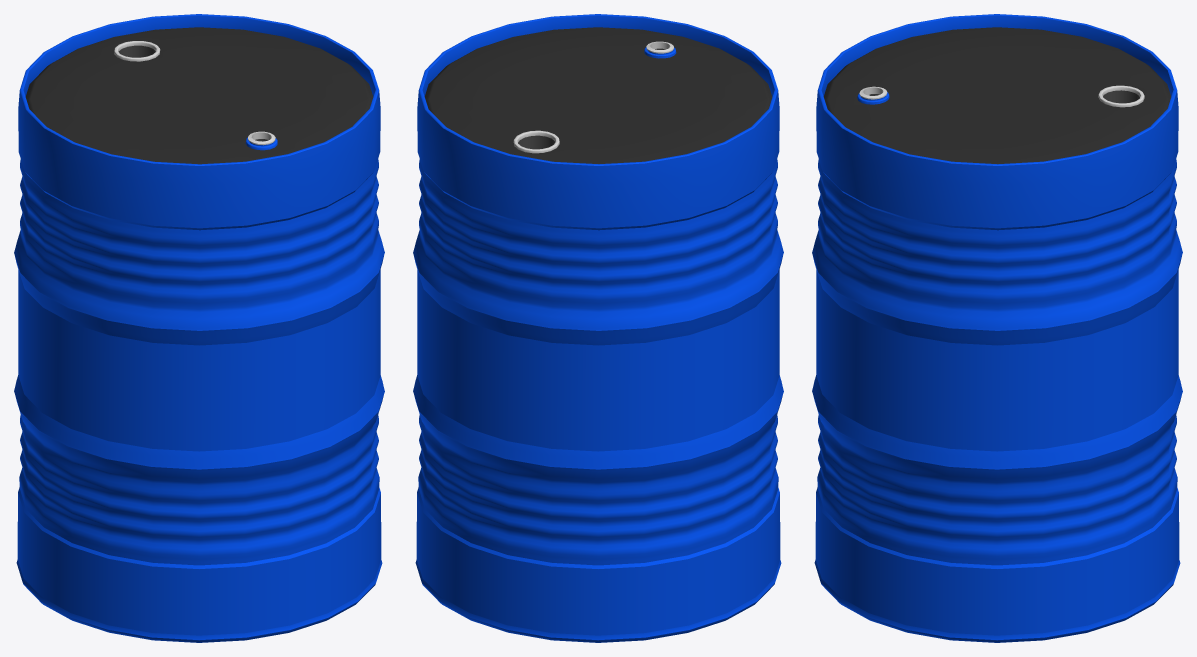
File: Metal_Barrel.glb
3 views of the same model, side by side, from view 1: azimuth 30°, elevation 25°; view 2: azimuth 150°, elevation 25°; view 3: azimuth 270°, elevation 25° (orthographic).
Visible parts, largest first — view 1: Metal_Barrel; view 2: Metal_Barrel; view 3: Metal_Barrel.
Boxes of the visible parts, <box> form: Metal_Barrel: <box>14,14,384,642</box>; Metal_Barrel: <box>413,14,783,642</box>; Metal_Barrel: <box>812,14,1182,642</box>.
Size of what is drawn, in the model's own units: 0.6026 by 0.8557 by 0.6026.
Materials: 1 (1 with a texture image).
